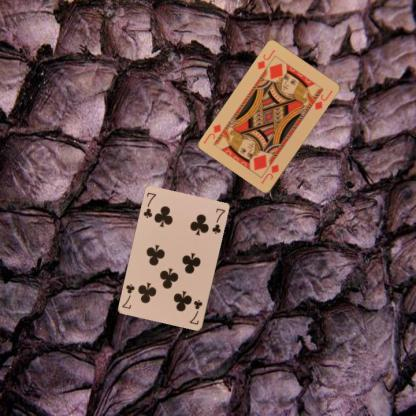7c: (141, 190, 158, 220), (187, 297, 204, 326)
Jd: (255, 47, 276, 71), (259, 162, 280, 185)
